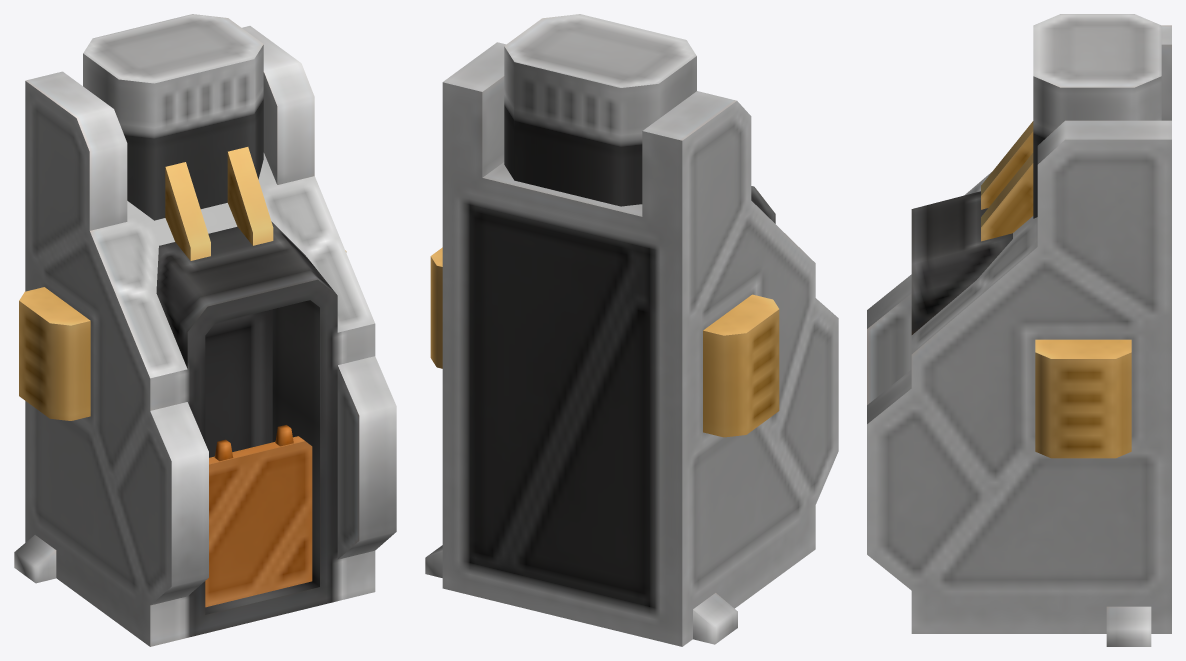
The model's file is Tech.FBX.
3 renders of one model, left to right at view 1: azimuth 30°, elevation 25°; view 2: azimuth 150°, elevation 25°; view 3: azimuth 270°, elevation 25°, orthographic. The views are drawn at different scales.
Parts seen in each view (by area): view 1: Tech; view 2: Tech; view 3: Tech.
Part boxes in pixels (x1,y1,x2,y2): Tech: [14, 14, 396, 646]; Tech: [425, 14, 838, 646]; Tech: [867, 14, 1171, 646].
Size of the model in its own units: 306 by 499 by 262.
